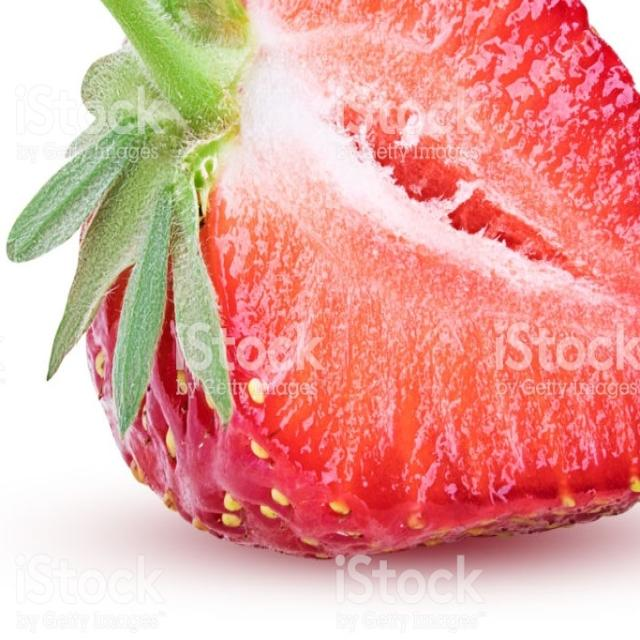strawberry: (65, 0, 640, 558)
